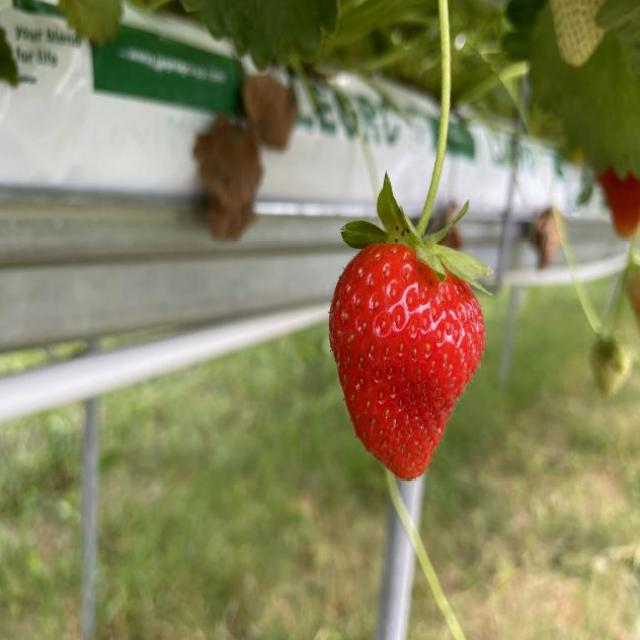stem: (342, 0, 490, 291)
strawberryR: (330, 245, 485, 479)
